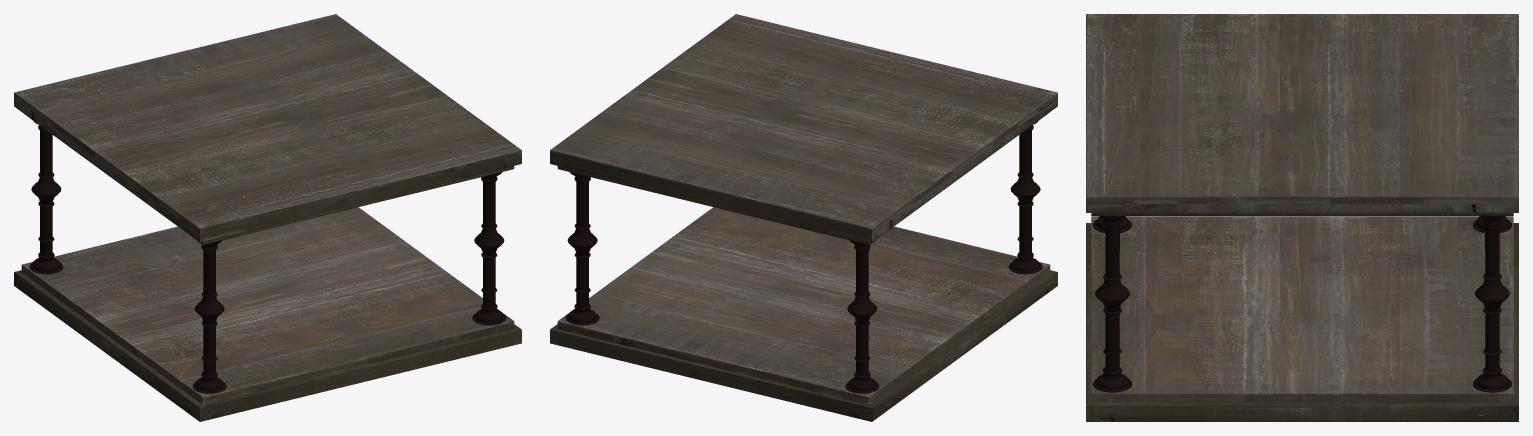
Rendered from abo-B07DBGJ3TF.glb.
The picture shows the model from 3 angles, left to right: view 1: azimuth 30°, elevation 25°; view 2: azimuth 150°, elevation 25°; view 3: azimuth 270°, elevation 25°; orthographic projection. The views are drawn at different scales.
Bounding box in the file's own units: 0.696 × 0.4 × 0.696.
1 material, 1 textured.
